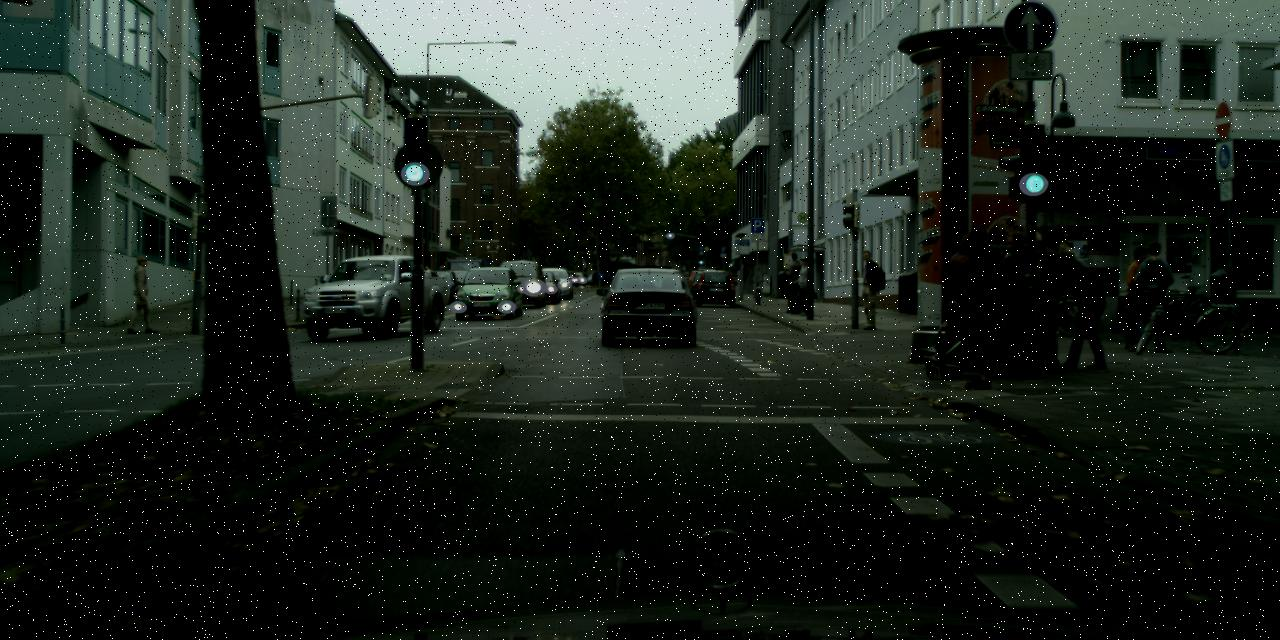ped: (946, 224, 1013, 389), (986, 230, 1046, 376), (1010, 230, 1068, 371), (1046, 241, 1098, 369), (939, 234, 988, 354), (1128, 242, 1173, 352), (1118, 245, 1160, 348), (852, 250, 884, 329), (126, 254, 158, 332), (781, 252, 805, 312), (794, 256, 817, 314), (736, 264, 748, 292)
